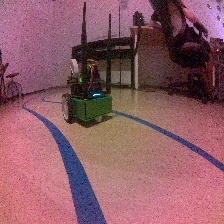rob: (61, 58, 113, 124)
